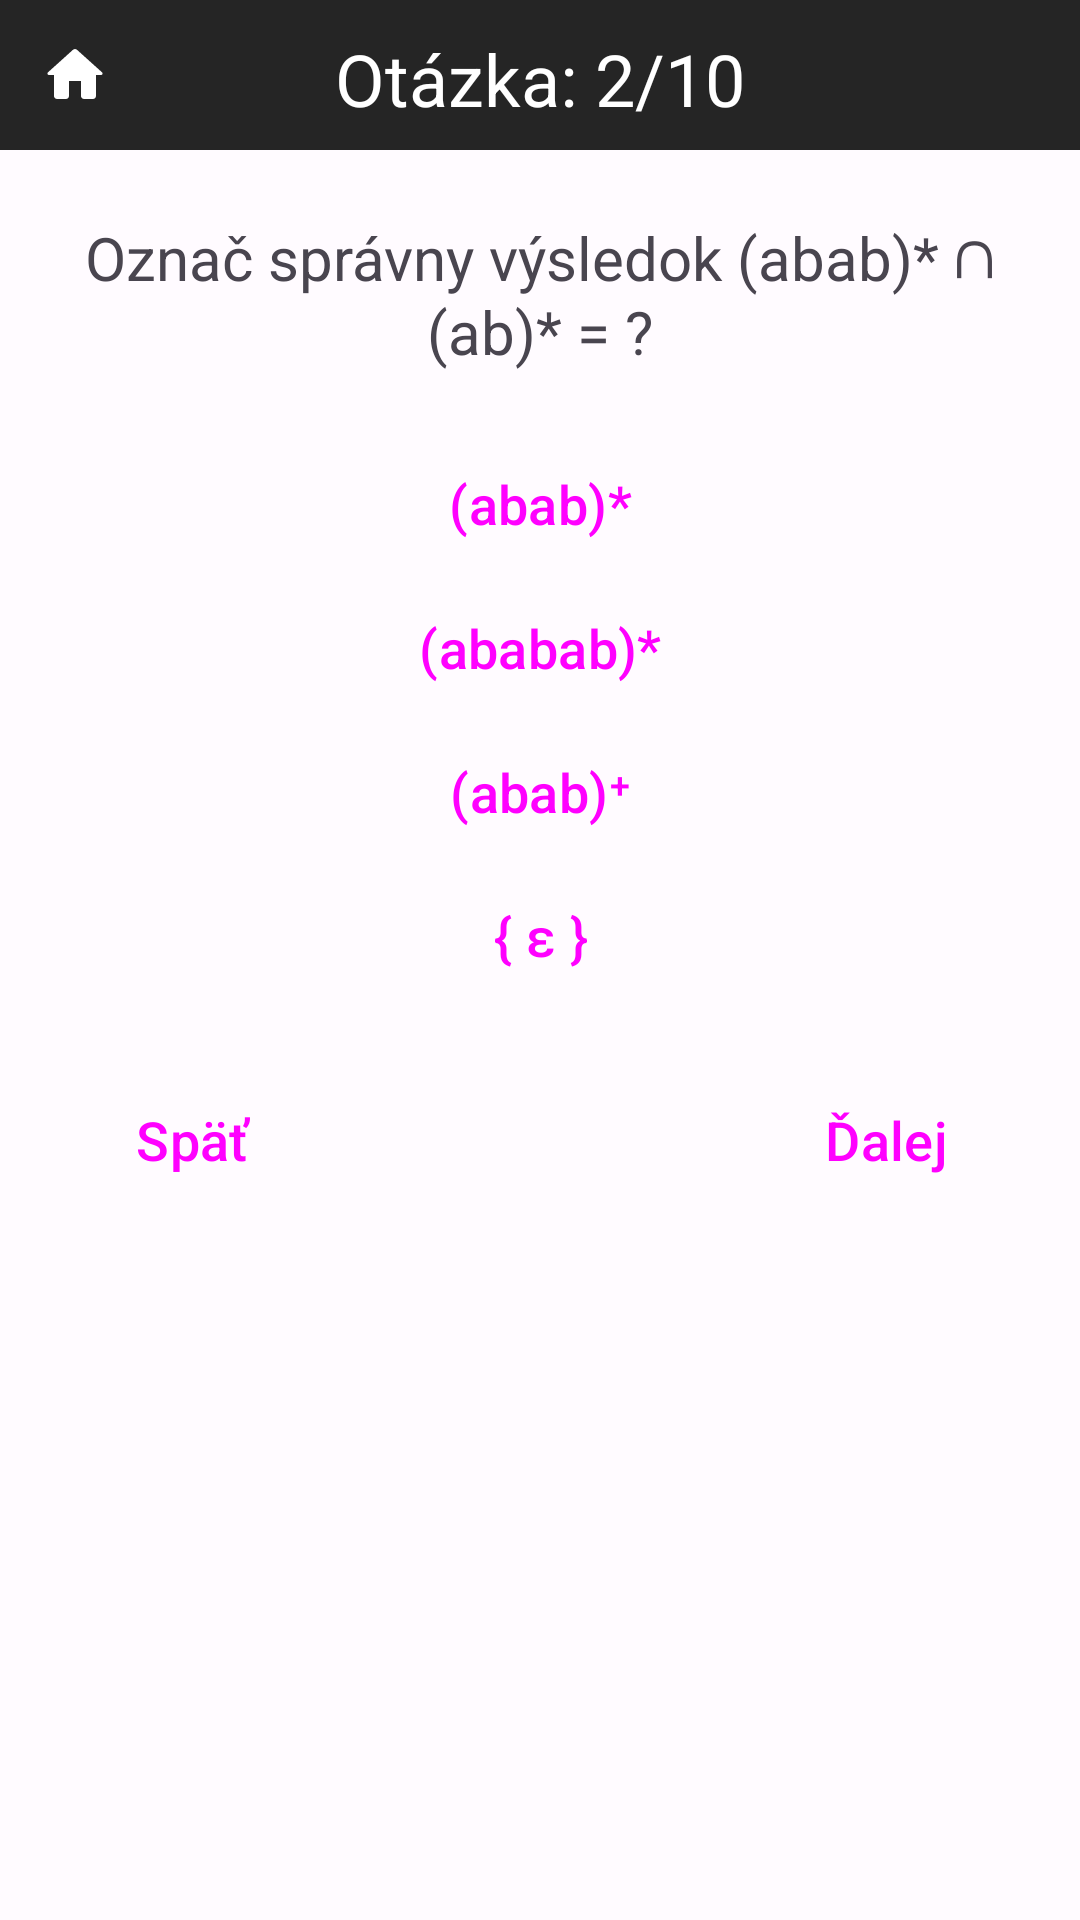

Named icons in this screenshot (1080px×1920px) and their centers, (x,y):
domov: (75,74)
